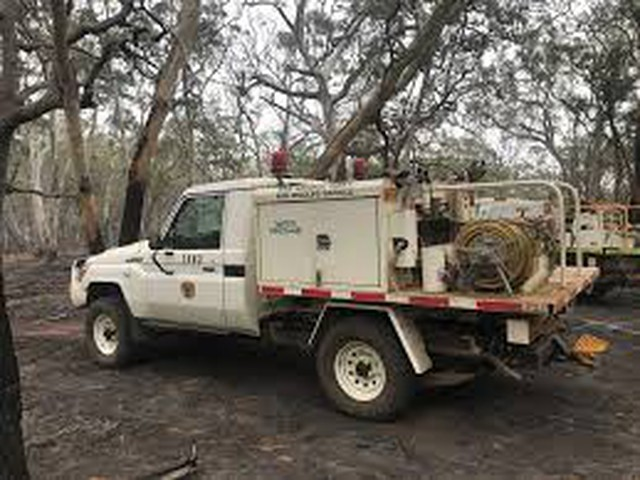Vehicle: (62, 146, 615, 416)
